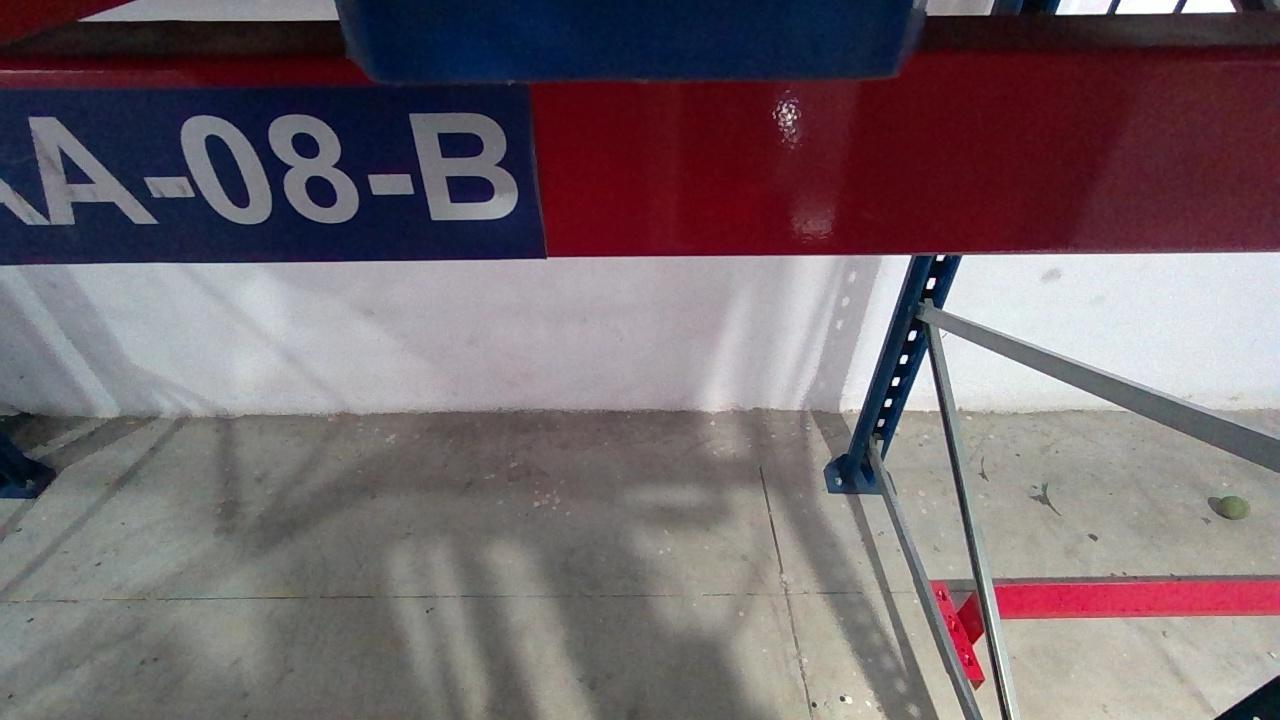h_rack: (0, 61, 1278, 269)
